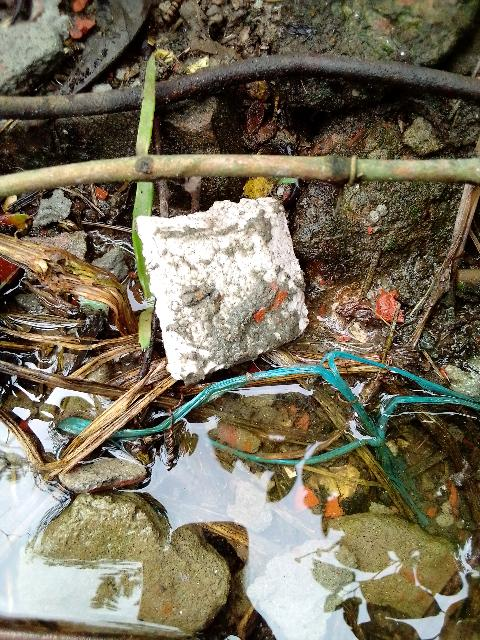cocksheet: (128, 181, 339, 386)
